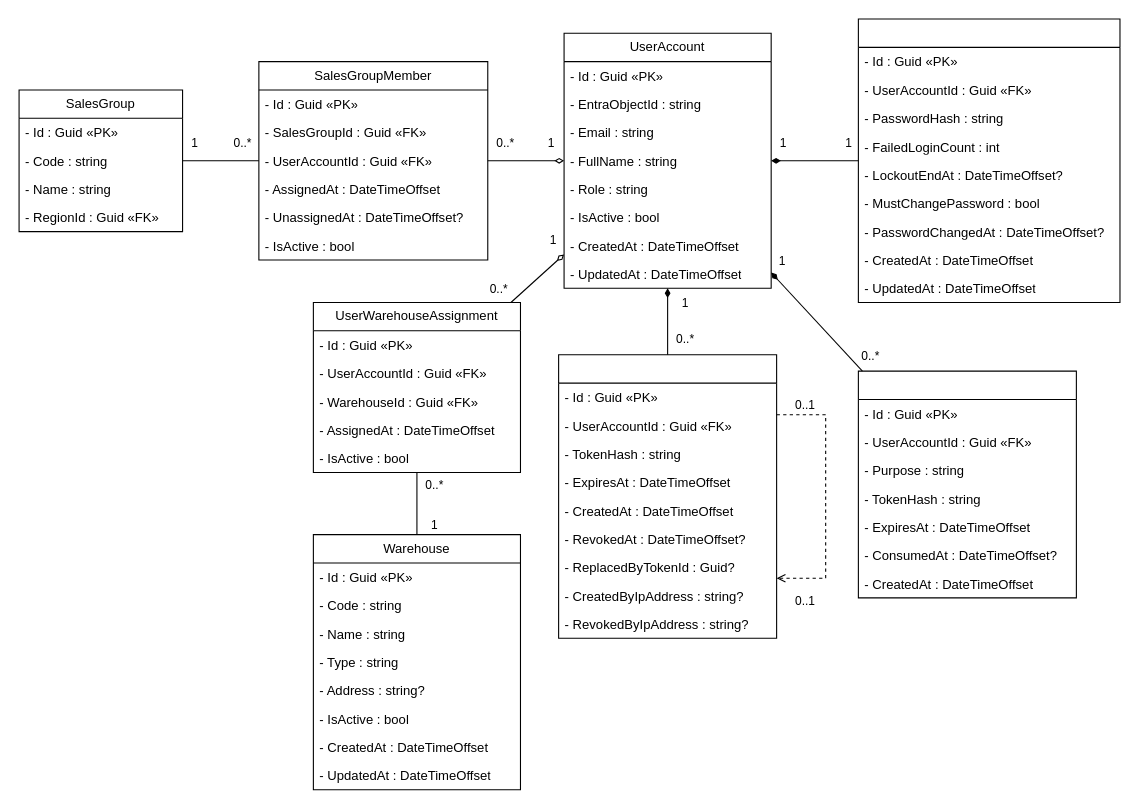
Image size: 1139x812. Some labels were removed from this diagram. The box of each missing label's shape, as (x1, y1, x2, y2) in pixels:
AccountToken: (857, 370, 1076, 598)
RefreshToken: (558, 354, 777, 638)
UserCredential: (857, 18, 1120, 302)
